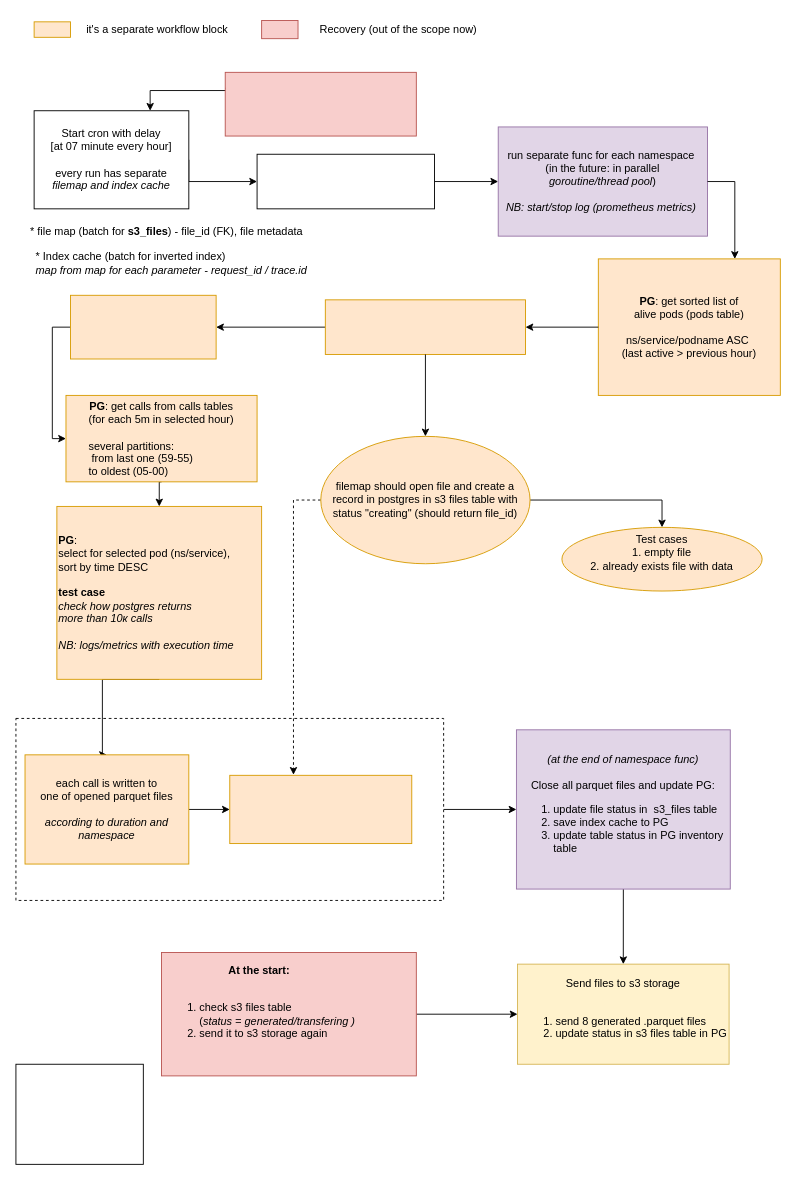
Some shapes in this 796 by 1180 pixel diagram are drawn without their labels. The shapes that lost their labels are listed below. From the top down, each one's centre as x and y in pixels, then its label:
point (320, 103): At the start: check calls/dumps in inventory table where status is not "ready"
point (345, 181): PG : get unique namespaces (pods table)
point (143, 326): write to Parquet file all calls from 59 to 00 minute
point (425, 326): run separate func for each pod open 8 parquet files (by duration range)
point (320, 809): update index map for each call (if it has params in params fiield)
point (79, 1113): (deploy) Need to have PV/PVC for storing parquet files locally
